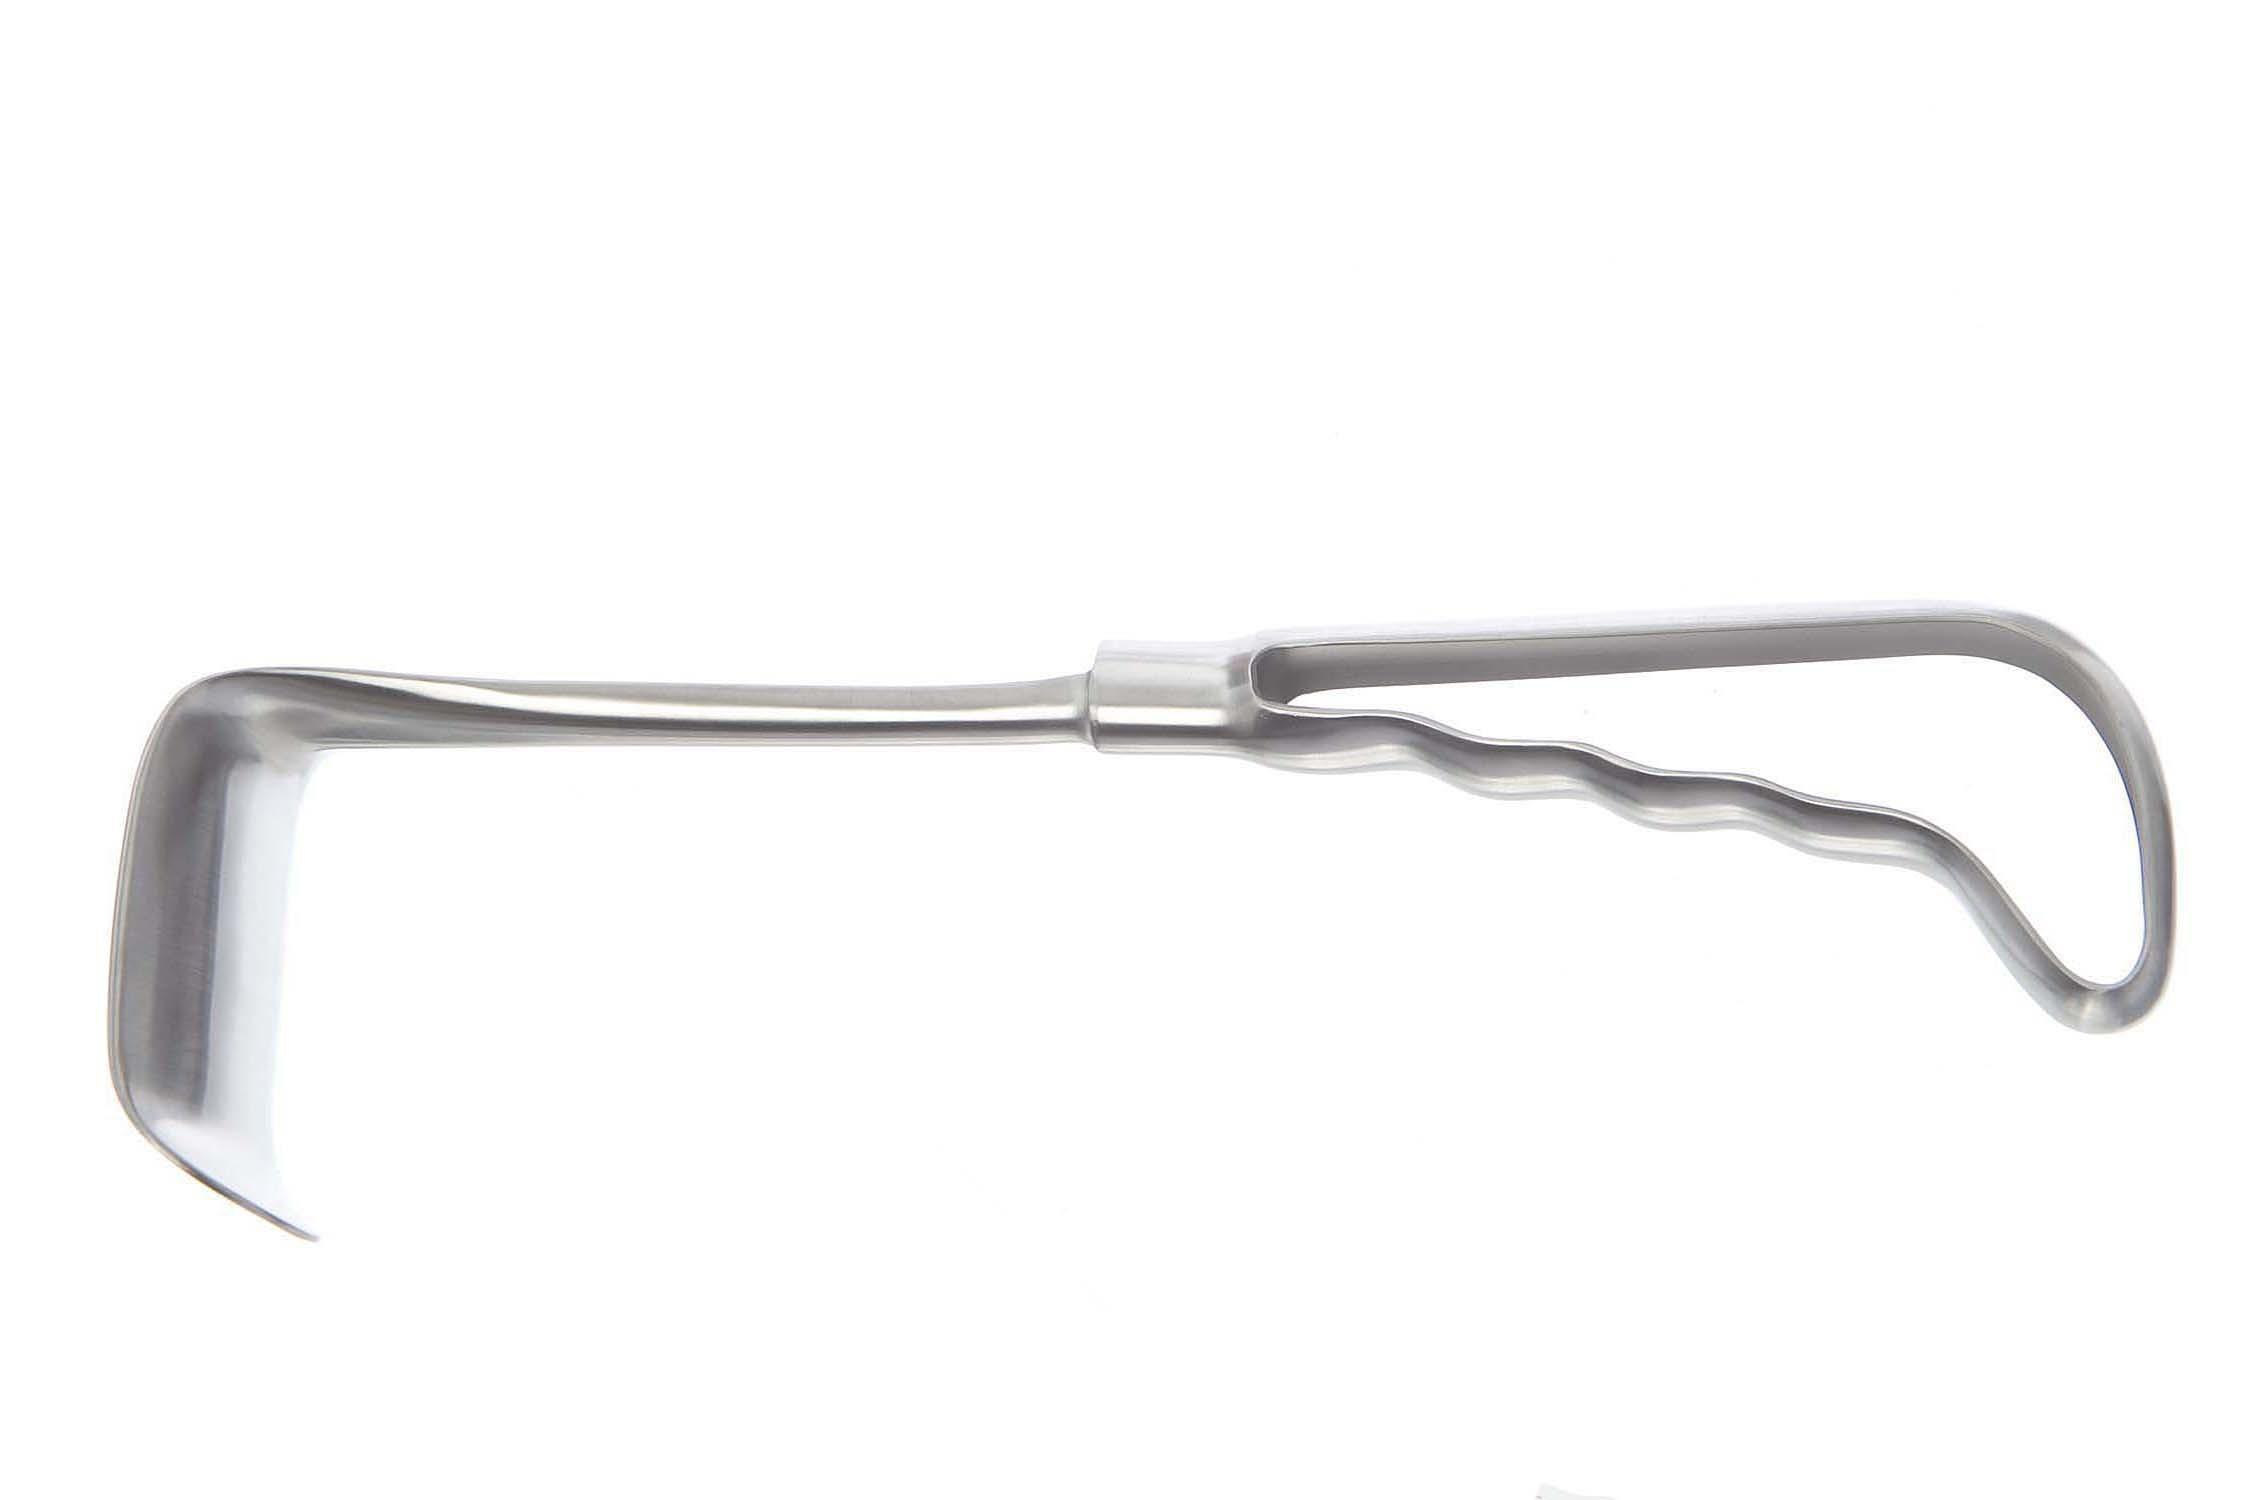Kelly Retractor: (83, 583, 2188, 1255)
